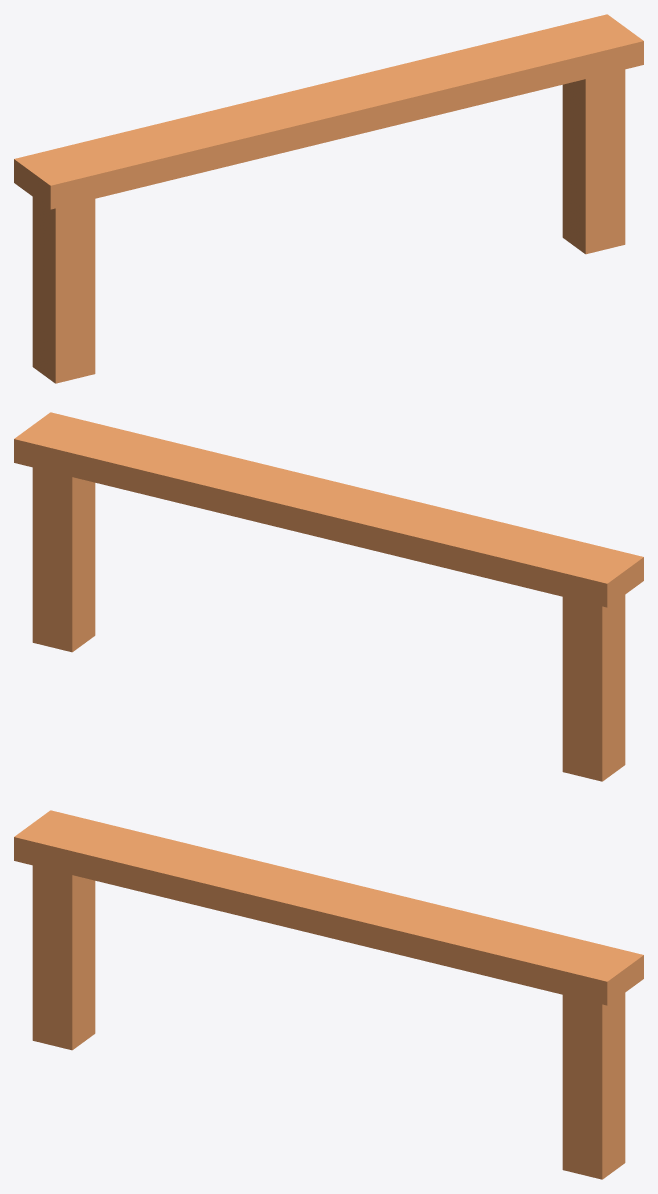
The model's file is fence_simpleHigh.fbx.
3 renders of one model, top to bottom at view 1: azimuth 30°, elevation 25°; view 2: azimuth 150°, elevation 25°; view 3: azimuth 330°, elevation 25°, orthographic.
Visible parts, largest first — view 1: fence_simpleHigh; view 2: fence_simpleHigh; view 3: fence_simpleHigh.
Part boxes in pixels (x1,y1,x2,y2): fence_simpleHigh: (14, 14, 643, 383); fence_simpleHigh: (14, 412, 643, 781); fence_simpleHigh: (14, 810, 643, 1179).
Bounding box in the file's own units: 10.41 × 3.45 × 1.11.
